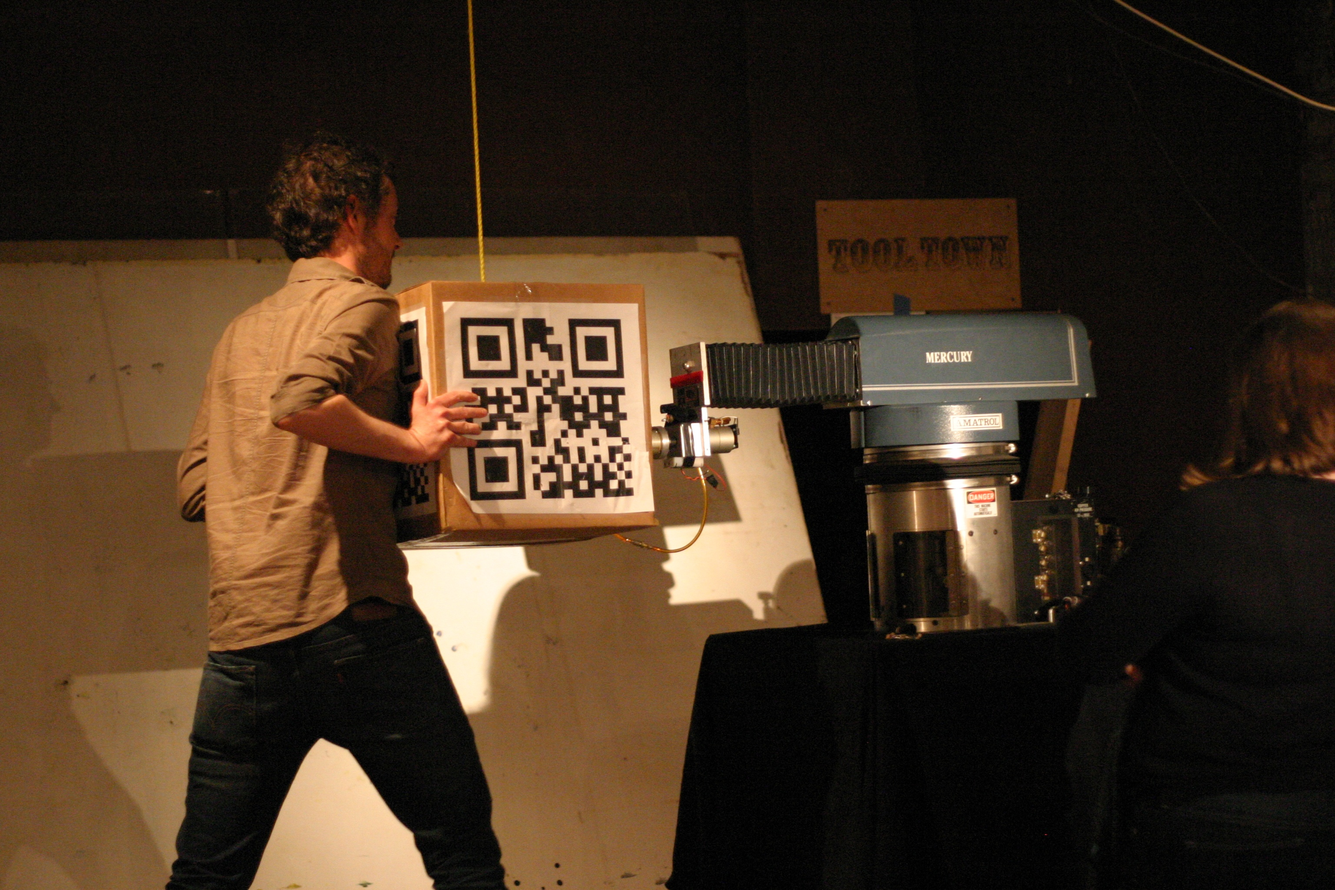QR-CODE: (460, 318, 634, 500)
